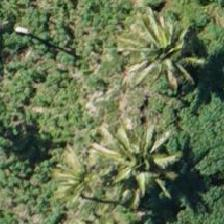coconut_tree: (95, 107, 185, 197), (118, 0, 208, 86)
